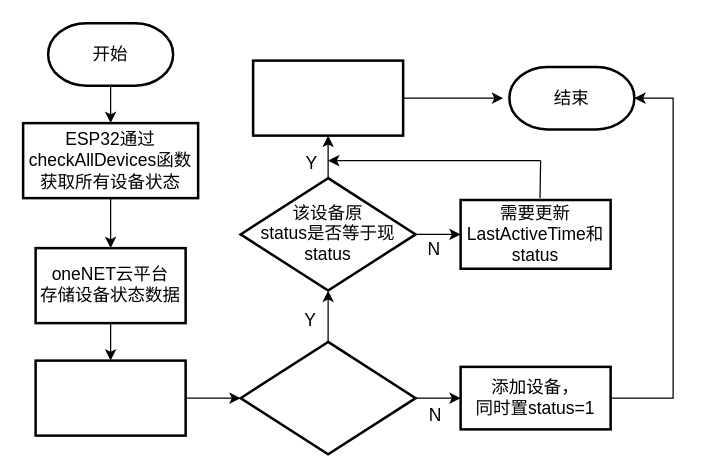
The diagram is 705 pixels wide and 476 high, and some of its shapes have lost their labels. The centre of each missing label's shape, as x and y in pixels:
只需要更新最后 活跃时间: the point at 327,97
后端遍历设备状态: the point at 110,397
数据库中是 否有此设备: the point at 327,397
